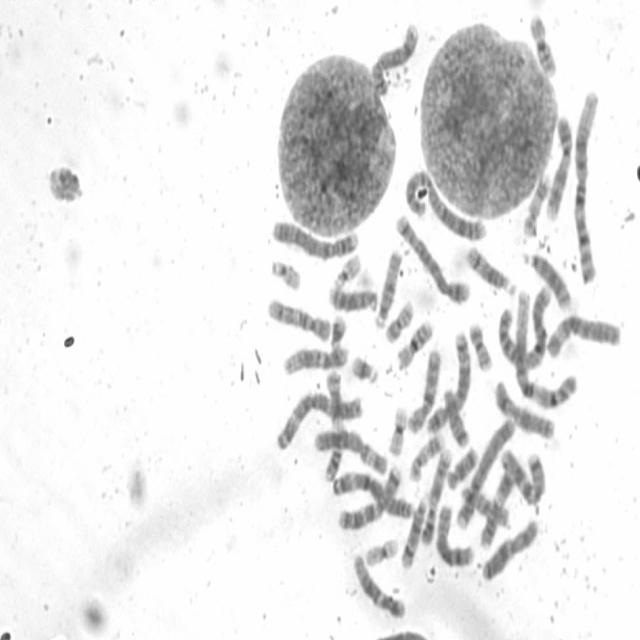A1: (511, 284, 579, 411), (570, 82, 602, 286)
A2: (401, 164, 488, 243), (494, 280, 552, 371)
A3: (273, 386, 366, 452), (333, 462, 409, 528)
B4: (452, 409, 517, 532), (269, 213, 362, 261)
B5: (392, 207, 472, 305), (423, 326, 472, 436)
C10: (263, 292, 333, 344), (404, 343, 443, 435)
C11: (476, 455, 520, 552), (320, 366, 345, 483)
C12: (349, 548, 408, 620), (279, 339, 350, 377)
C6: (311, 422, 391, 478), (543, 308, 622, 360)
C7: (335, 459, 405, 532), (498, 443, 547, 506)
C8: (368, 17, 421, 96), (433, 499, 476, 568)
C9: (418, 441, 454, 546), (543, 109, 575, 222)
D13: (520, 245, 574, 312), (326, 278, 380, 314)
D14: (463, 240, 518, 297), (398, 490, 430, 570)
D15: (371, 244, 404, 330), (458, 481, 512, 528)
E16: (394, 313, 435, 371), (526, 7, 559, 79)
E17: (406, 427, 446, 483), (521, 167, 552, 239)
E18: (441, 382, 472, 448), (444, 440, 479, 490)
F19: (384, 400, 410, 458), (362, 532, 400, 568)
F20: (382, 294, 416, 344), (466, 315, 494, 372)
G21: (348, 349, 381, 386), (327, 310, 348, 350)
G22: (267, 252, 303, 292), (331, 247, 364, 290)
X: (479, 513, 541, 583), (492, 374, 556, 441)
